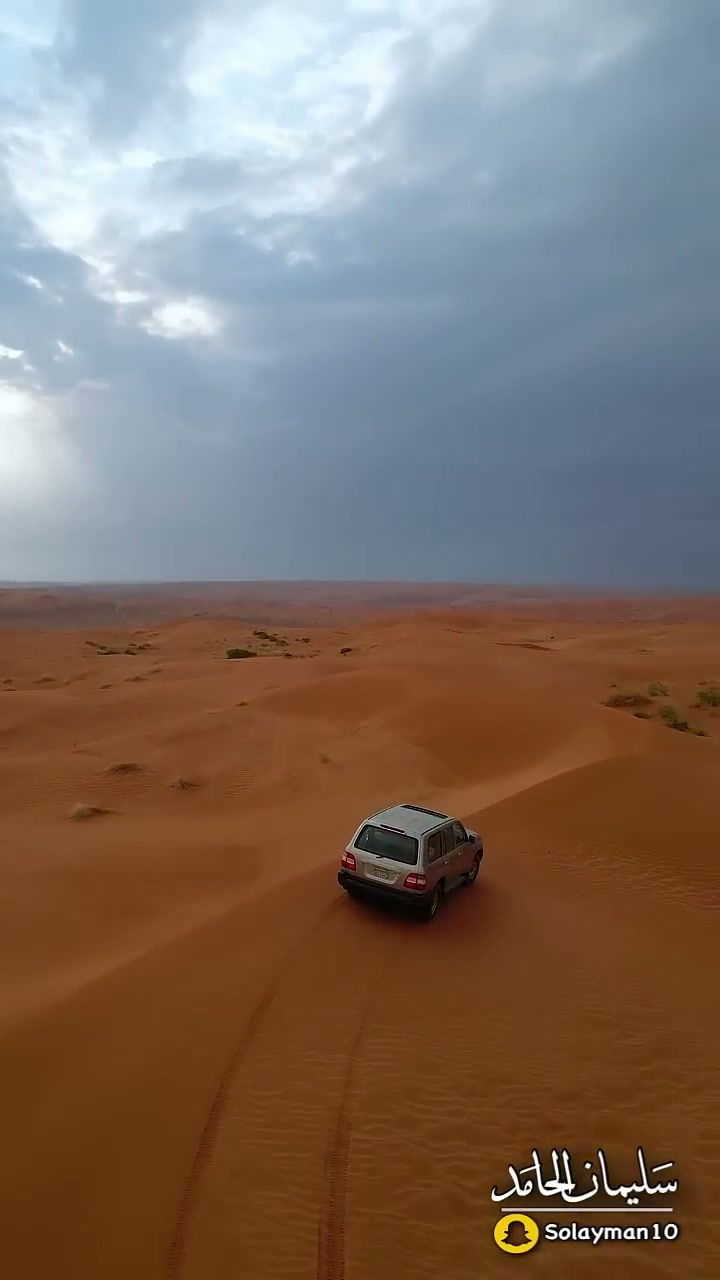vehicle_track: (165, 895, 344, 1279), (316, 941, 397, 1279)
